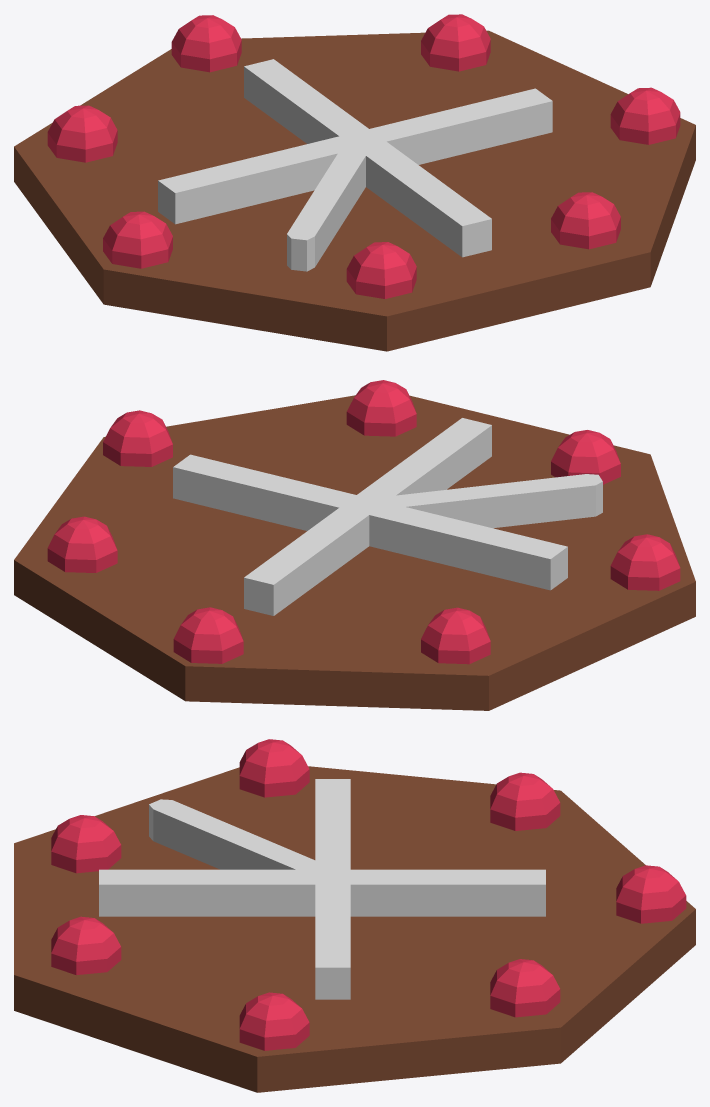
File: Cooki2.fbx
The picture shows the model from 3 angles, top to bottom: view 1: azimuth 30°, elevation 25°; view 2: azimuth 150°, elevation 25°; view 3: azimuth 270°, elevation 25°; orthographic projection. The views are drawn at different scales.
Visible parts, largest first — view 1: Cooki2; view 2: Cooki2; view 3: Cooki2.
Boxes of the visible parts, x1,y1,x2,y2 form: Cooki2: [14, 14, 695, 351]; Cooki2: [14, 380, 695, 710]; Cooki2: [14, 739, 695, 1092].
Size of the model in its own units: 139 by 16.59 by 135.
